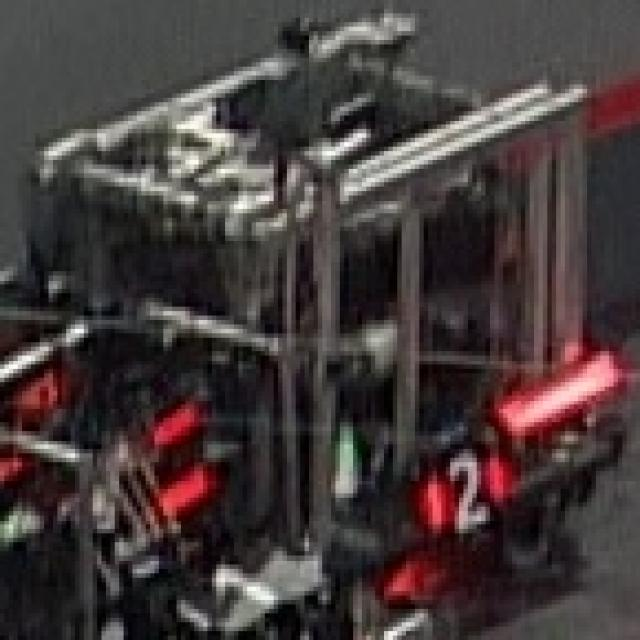R2: (402, 440, 516, 533)
